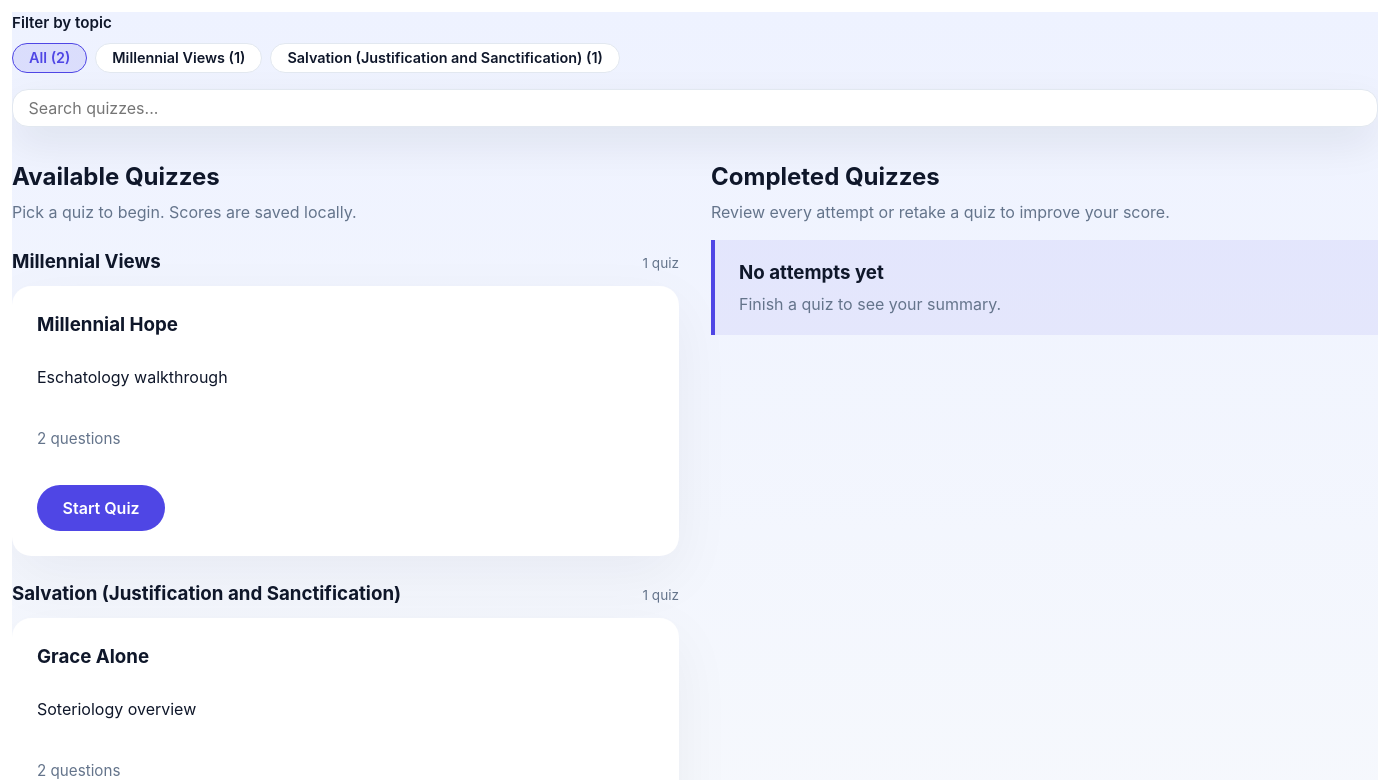
Test case: QuizListPage › search overrides the currently selected group filter
This screenshot has width=1390, height=780.
Click the button "Salvation (Justification and Sanctification) (1)": [445, 58] box [270,43,620,73]
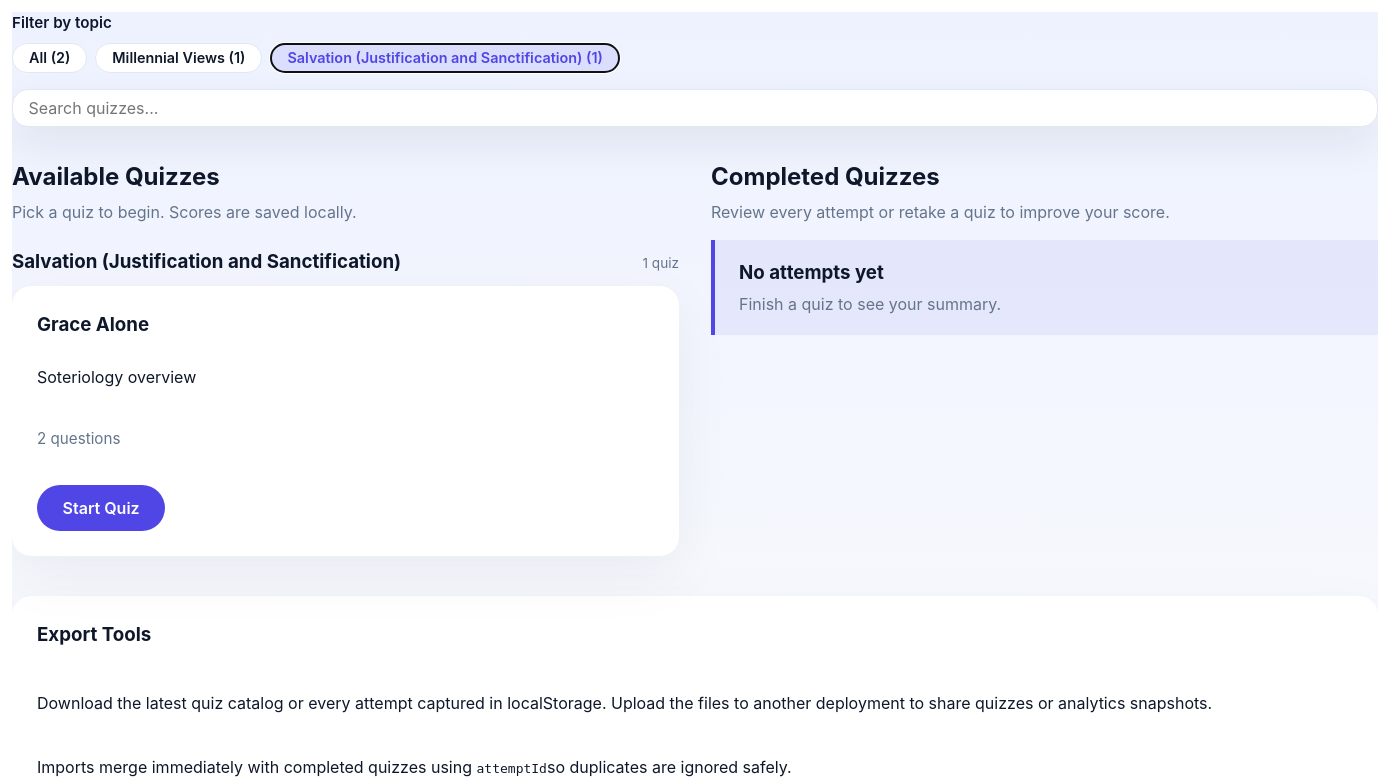
Expected: the heading "Millennial Hope" is gone
In the search field with placeholder "Search quizzes...": [695, 108] box [27,97,1363,119], type "millennial"
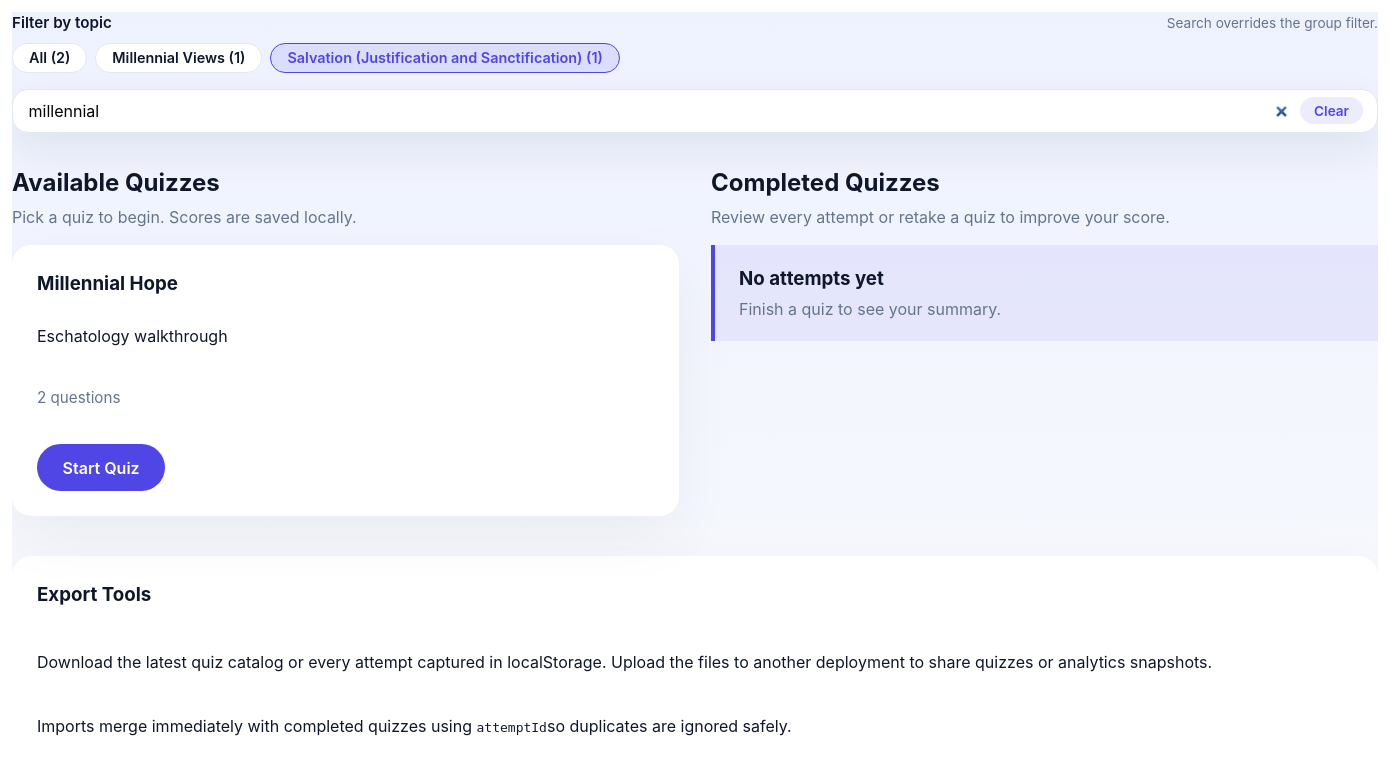
Expected: the heading "Millennial Hope" is shown, [37,272,178,295]
